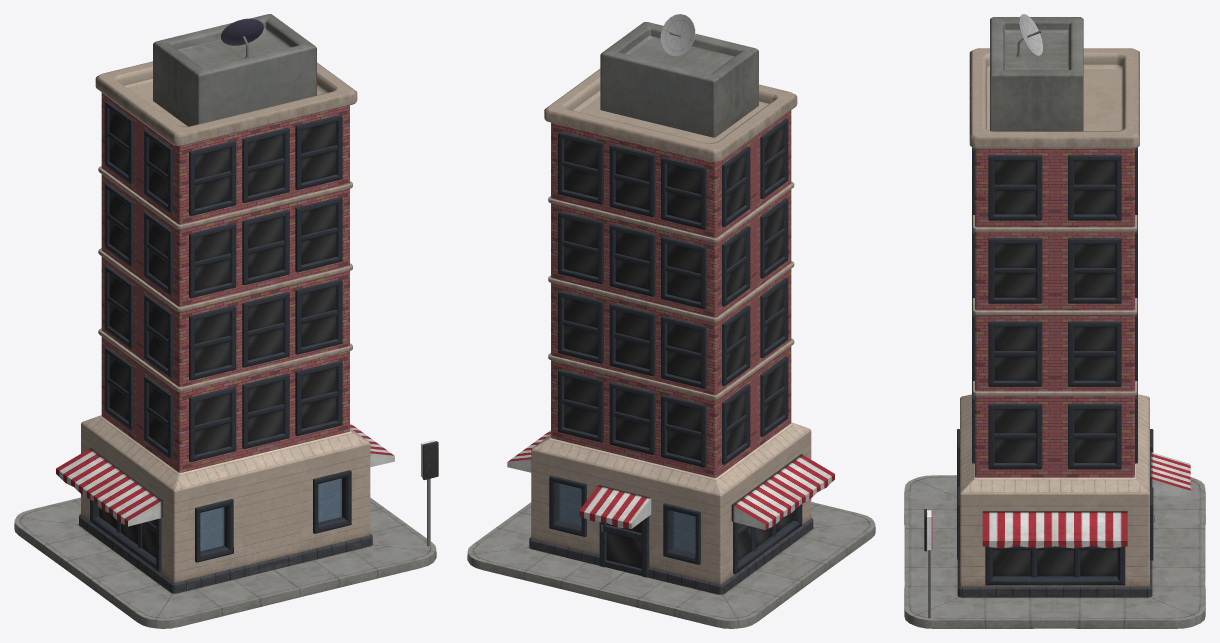
File: xiaofangzi_a.fbx
3 views of the same model, side by side, from view 1: azimuth 30°, elevation 25°; view 2: azimuth 150°, elevation 25°; view 3: azimuth 270°, elevation 25° (orthographic). The views are drawn at different scales.
Parts seen in each view (by area): view 1: root; view 2: root; view 3: root.
Boxes of the visible parts, x1=… form: root: x1=14, y1=14, x2=438, y2=628; root: x1=467, y1=14, x2=875, y2=628; root: x1=904, y1=14, x2=1205, y2=628.
Bounding box in the file's own units: 57.48 × 99.41 × 50.14.
1 material, 1 textured.
